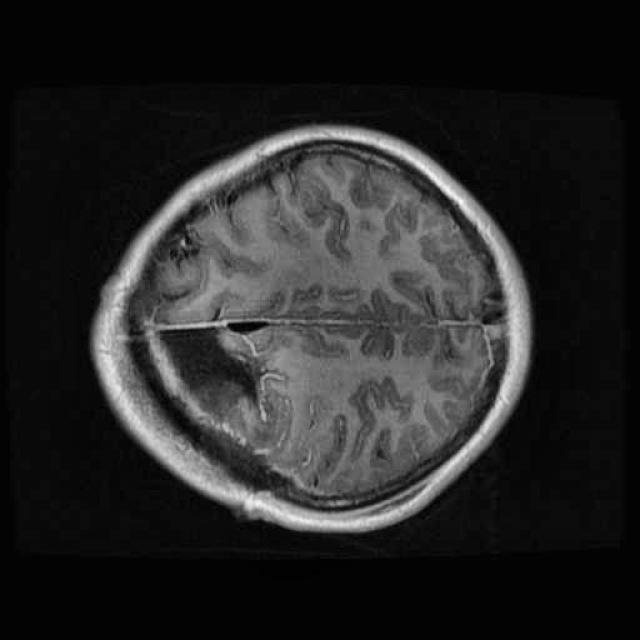Non-Tumor: (143, 306, 280, 430)
